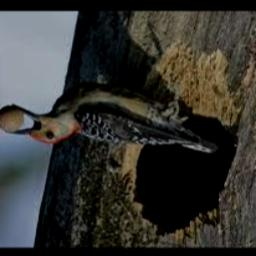Woodpecker: (5, 82, 220, 155)
